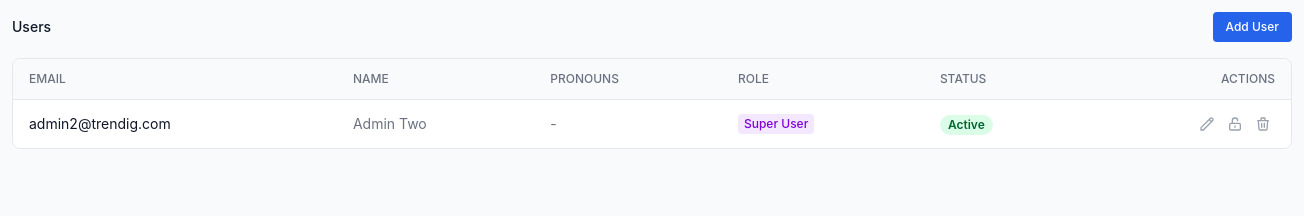
Test: admin Tenants UsersTab — unlock › shows the parsed error message in the toast when the unlock endpoint fails
Expected: the text "admin2@trendig.com" is shown, [13, 100, 337, 148]
Click the button titled "Reset failed-login counter" at (1235, 124), box [1223, 112, 1247, 136]
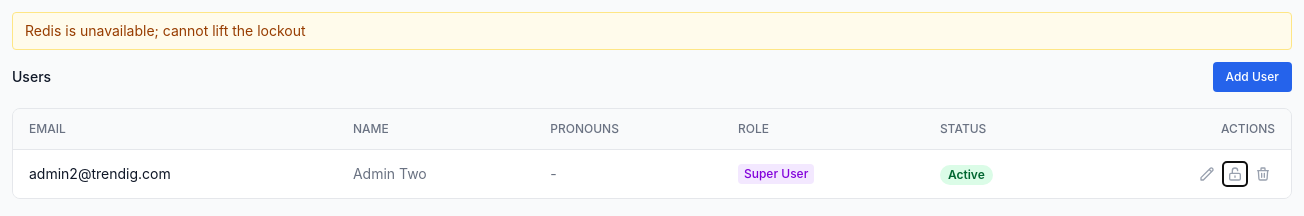
Expected: the text "Redis is unavailable; cannot lift the lockout" is shown, [12, 12, 1292, 50]
